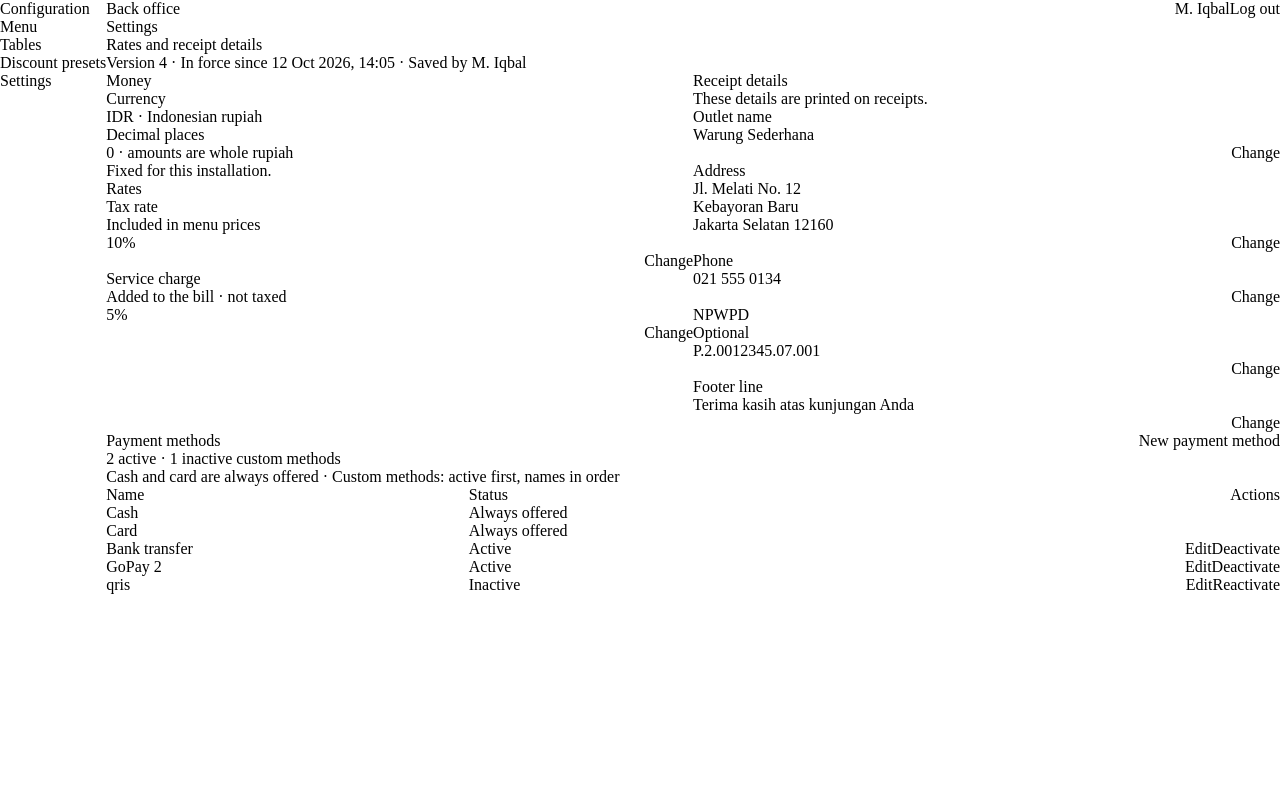
the decision before a method draft is left › a clean form closes on Cancel and on Escape with no decision
Click the button "New payment method" at (1209, 441), box [1139, 432, 1279, 450]
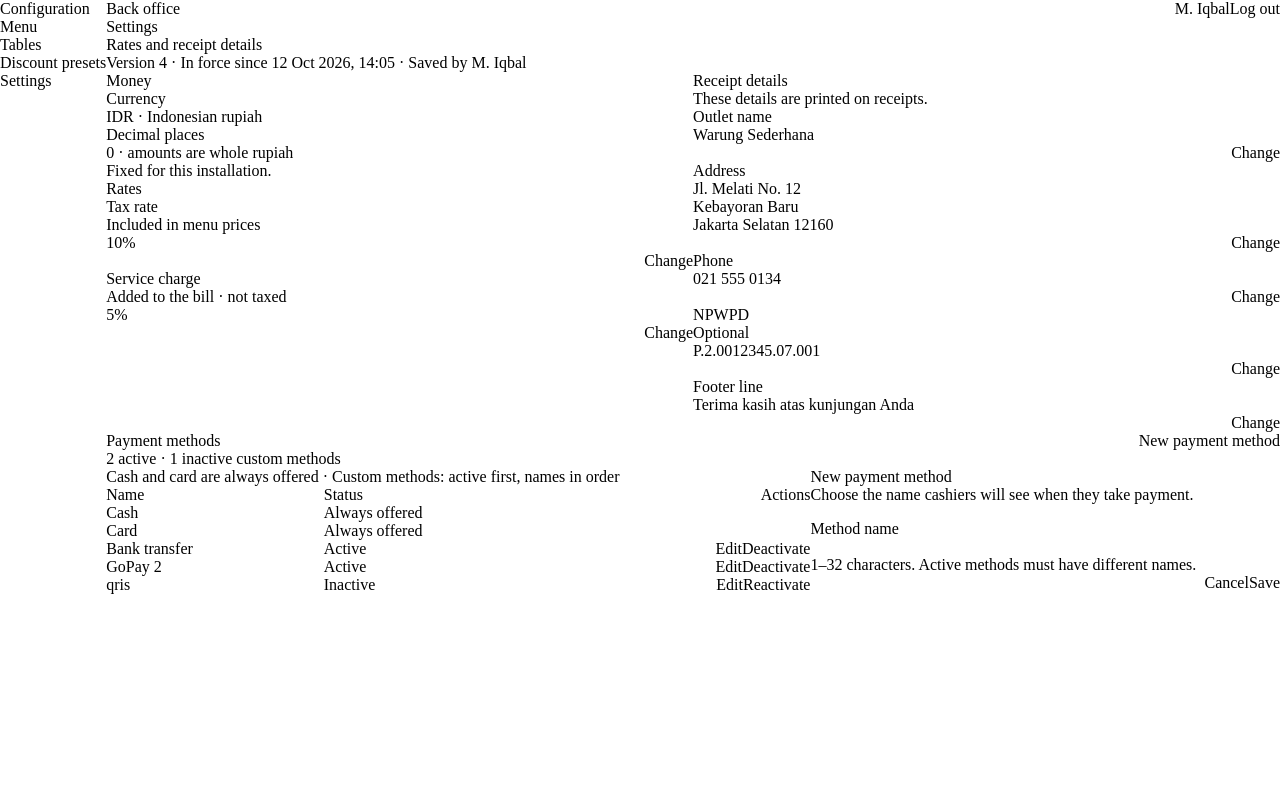
Click the button "Cancel" at (1227, 583), box [1204, 574, 1249, 592]
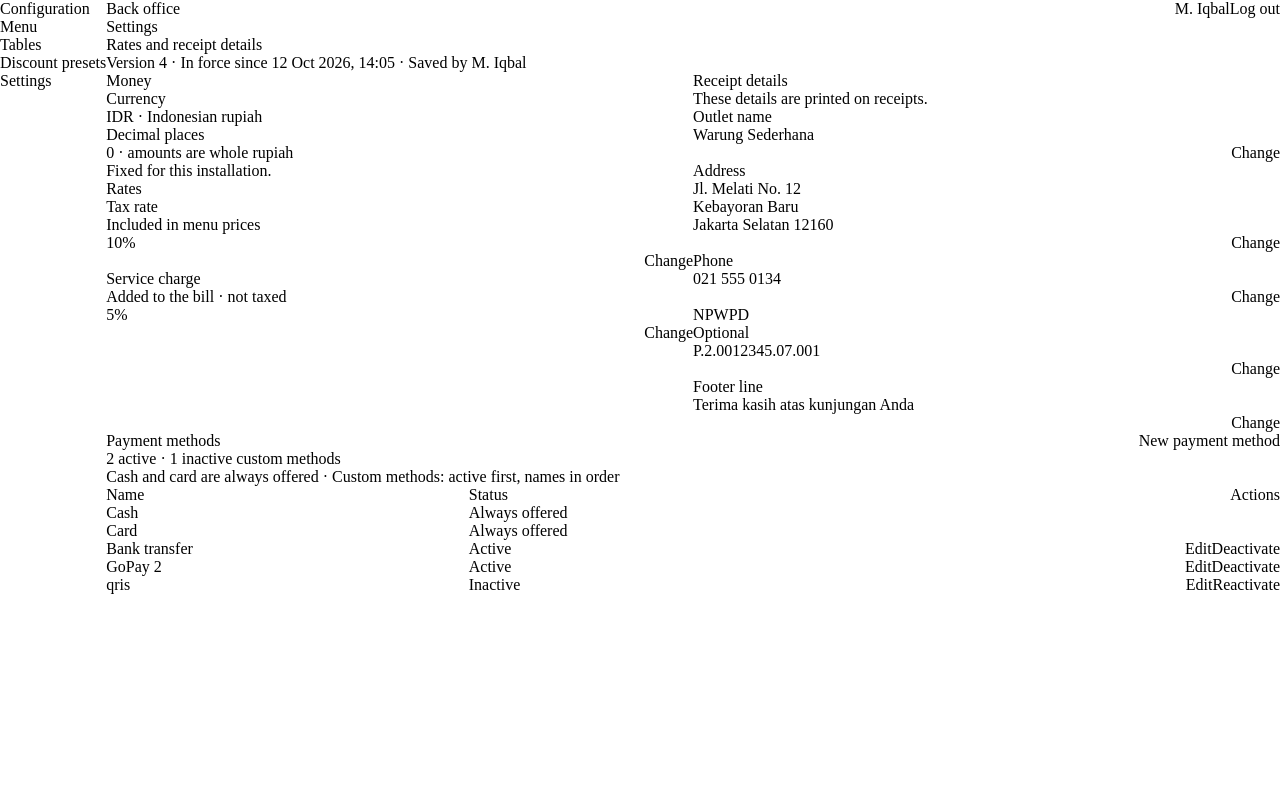
Expected: the dialog with id "method-editor" is gone
Click the button "Edit" in the row of "qris" at (1199, 585), box [1186, 576, 1212, 594]
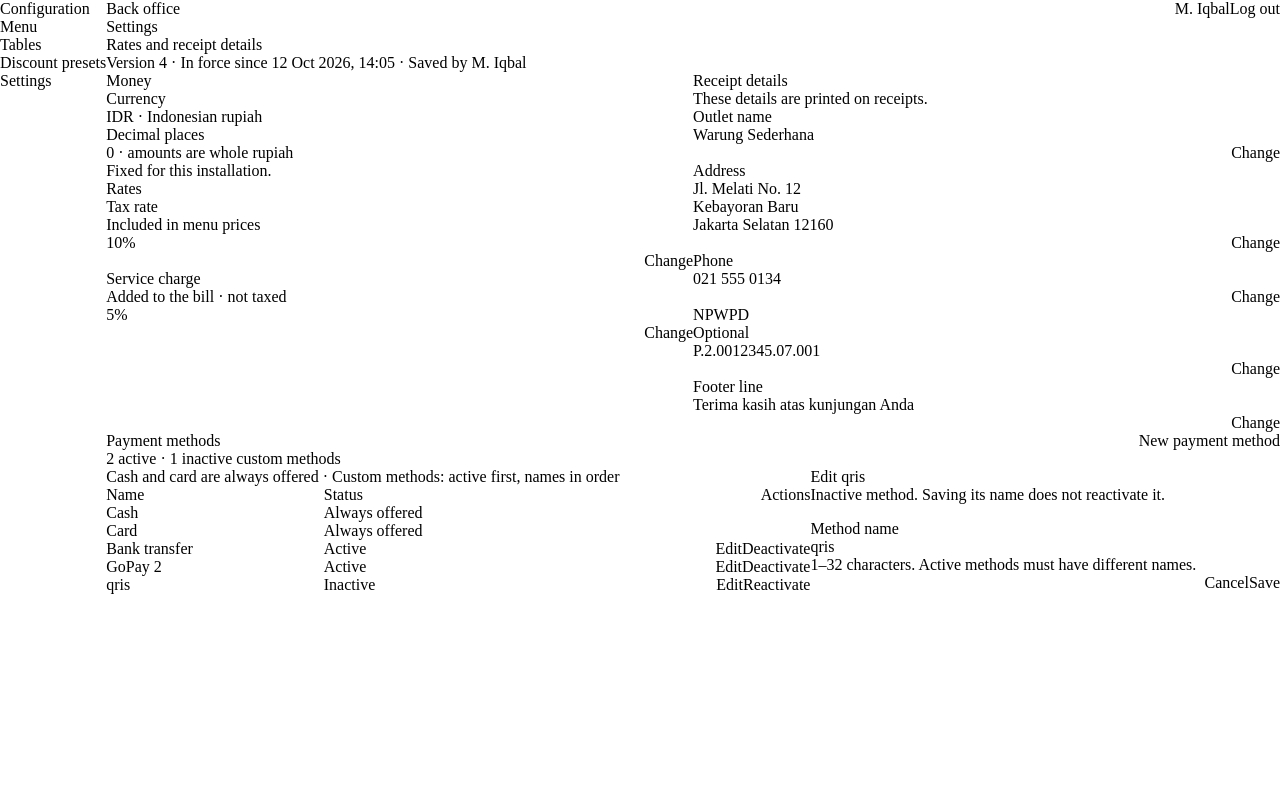
Press Escape in the field with id "method-name", box [810, 538, 1279, 556]
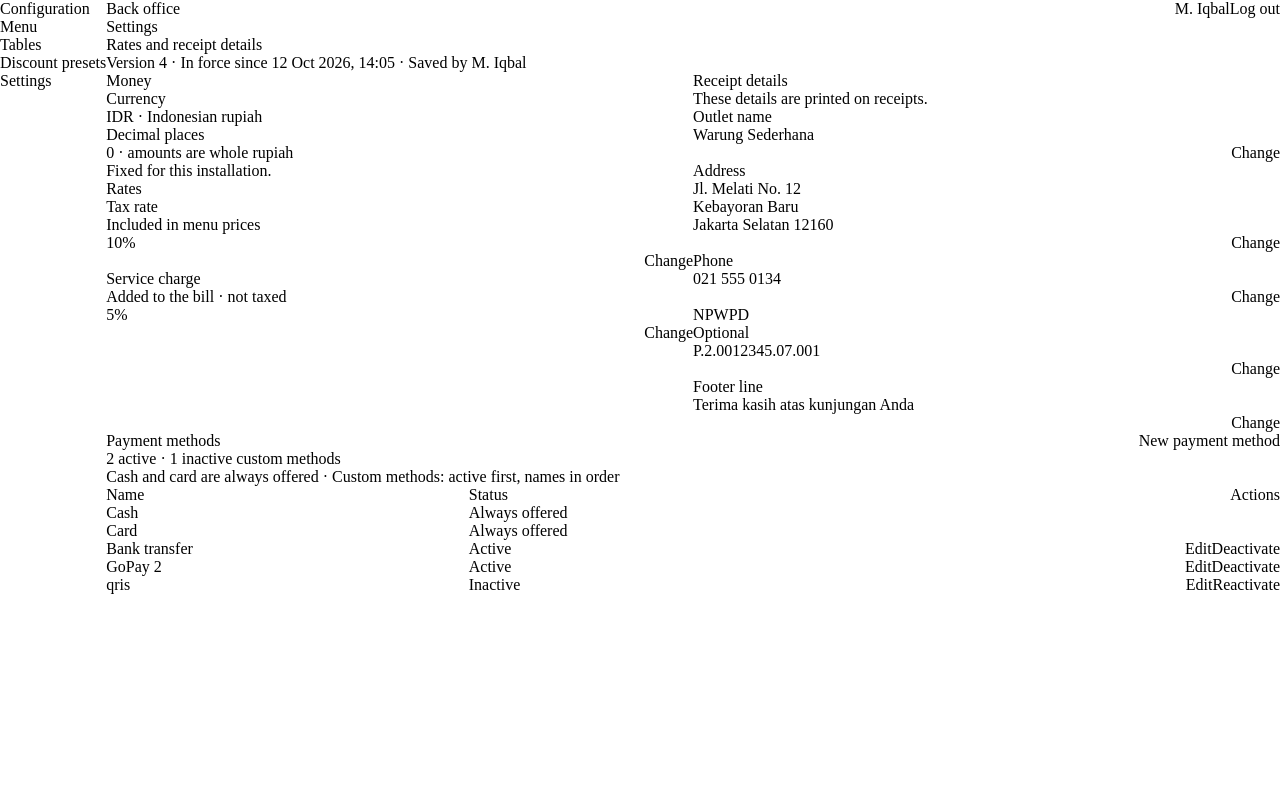
Expected: the dialog with id "method-editor" is gone
